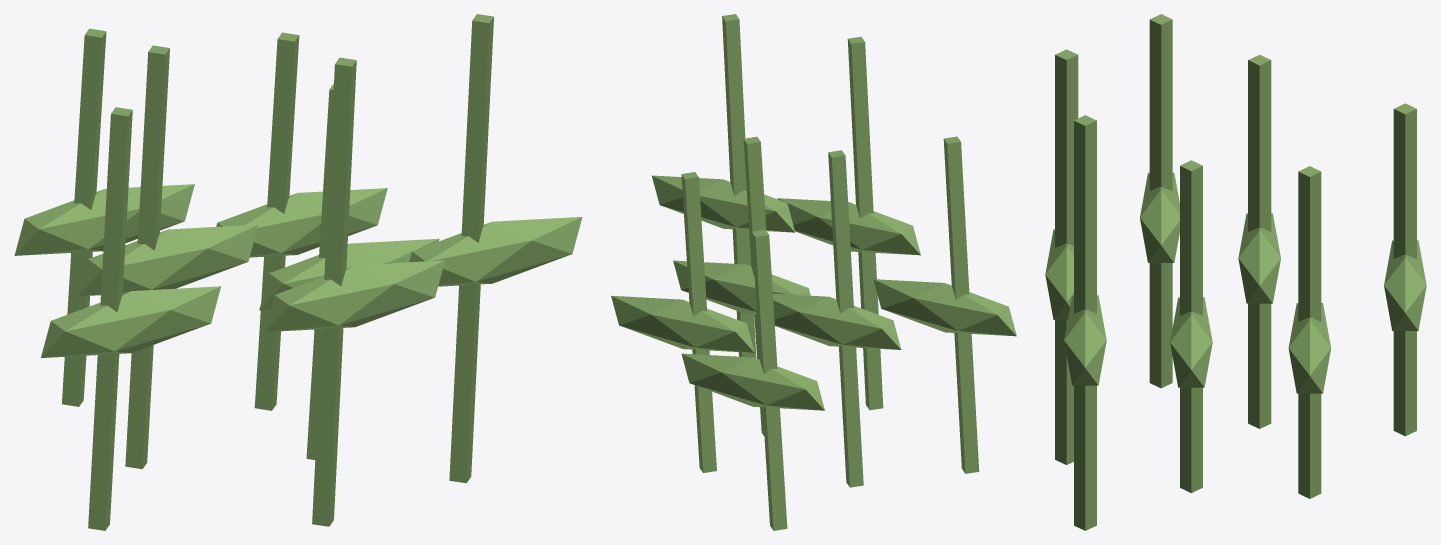
Rendered from plant_wild_grain_growing.glb.
3 renders of one model, left to right at view 1: azimuth 30°, elevation 25°; view 2: azimuth 150°, elevation 25°; view 3: azimuth 270°, elevation 25°, orthographic. The views are drawn at different scales.
Parts seen in each view (by area): view 1: plant_wild_grain_growing; view 2: plant_wild_grain_growing; view 3: plant_wild_grain_growing.
Boxes of the visible parts, x1,y1,x2,y2 form: plant_wild_grain_growing: [14, 14, 582, 530]; plant_wild_grain_growing: [611, 14, 1016, 530]; plant_wild_grain_growing: [1045, 14, 1426, 530].
Bounding box in the file's own units: 0.5479 × 0.477 × 0.3959.
